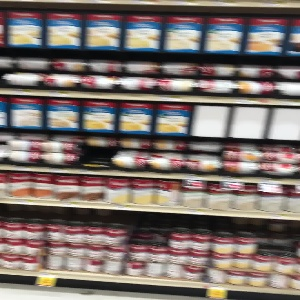void: (81, 134, 112, 167)
